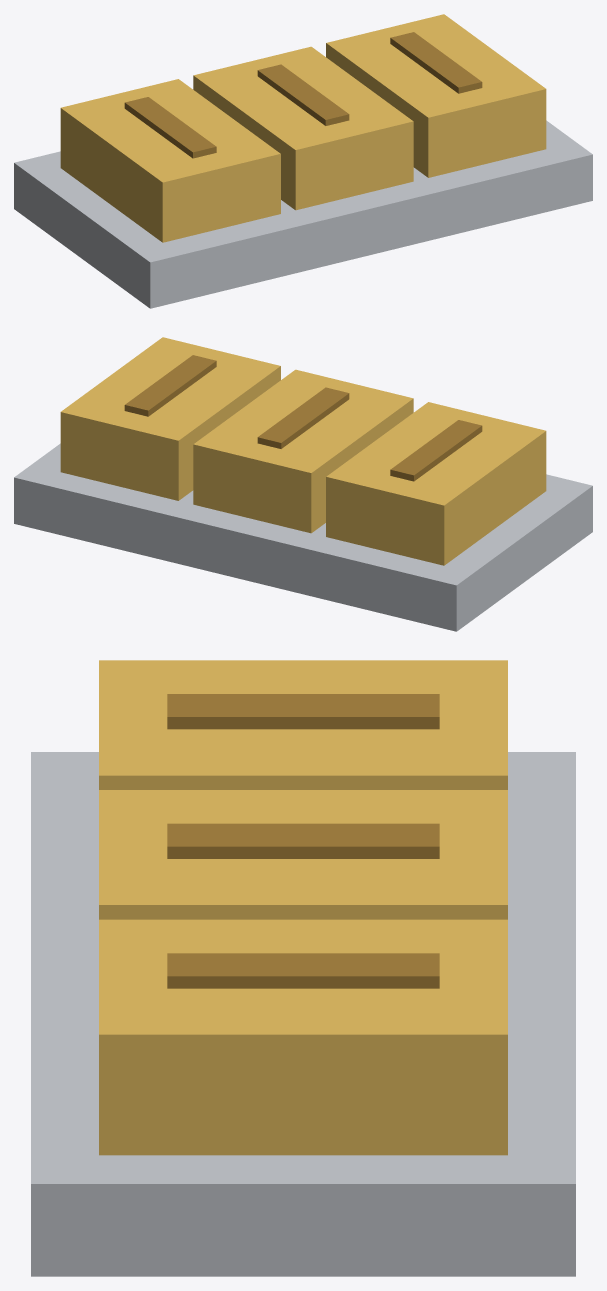
Rendered from wax_molds.glb.
3 renders of one model, top to bottom at view 1: azimuth 30°, elevation 25°; view 2: azimuth 150°, elevation 25°; view 3: azimuth 270°, elevation 25°, orthographic. The views are drawn at different scales.
Parts seen in each view (by area): view 1: wax_wax, tray_tin, print_wax_print (×3); view 2: wax_wax, tray_tin, print_wax_print (×3); view 3: wax_wax, tray_tin, print_wax_print (×3).
Part boxes in pixels (box(x1,y1,x2,y2)): wax_wax: box(60, 14, 546, 242); tray_tin: box(14, 120, 592, 308); print_wax_print (×3): box(124, 32, 482, 158); wax_wax: box(60, 337, 546, 565); tray_tin: box(14, 443, 592, 631); print_wax_print (×3): box(124, 355, 482, 481); wax_wax: box(99, 660, 507, 1155); tray_tin: box(31, 752, 575, 1276); print_wax_print (×3): box(167, 694, 439, 988).
Size of the model in its own units: 0.15 by 0.0365 by 0.08.
